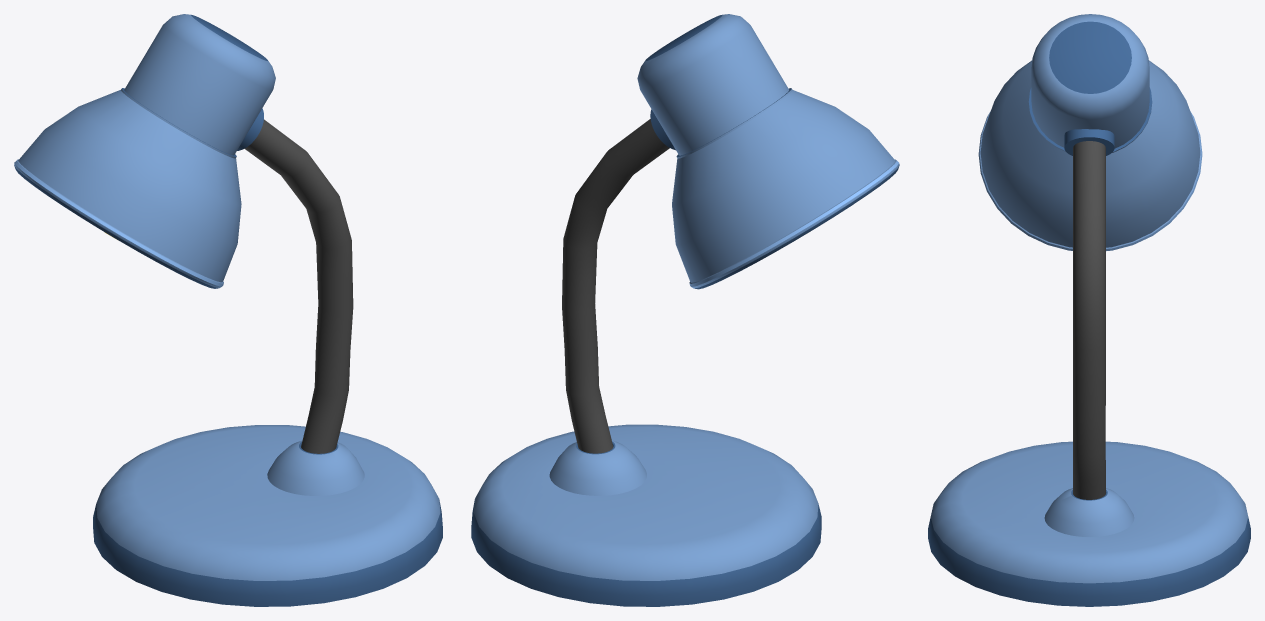
File: 3d_desklamp.fbx
3 views of the same model, side by side, from view 1: azimuth 30°, elevation 25°; view 2: azimuth 150°, elevation 25°; view 3: azimuth 270°, elevation 25° (orthographic). The views are drawn at different scales.
Visible parts, largest first — view 1: 3d_desklamp; view 2: 3d_desklamp; view 3: 3d_desklamp.
Part boxes in pixels (box(x1,y1,x2,y2)): 3d_desklamp: box(14, 14, 442, 606); 3d_desklamp: box(471, 14, 899, 606); 3d_desklamp: box(928, 14, 1250, 606).
Bounding box in the file's own units: 0.2666 × 0.3495 × 0.2098.
